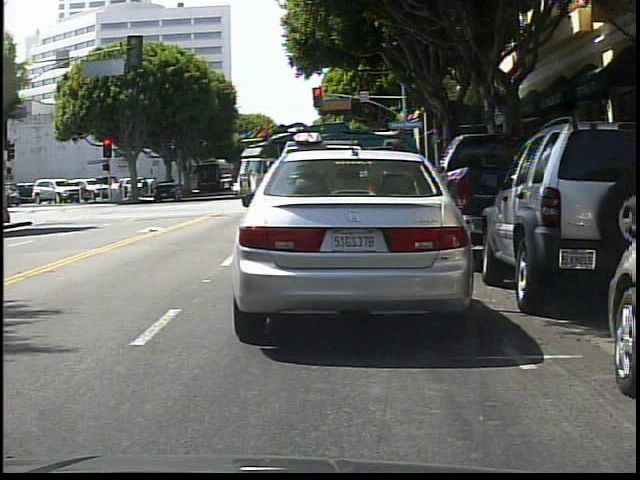person: (382, 133, 422, 271)
